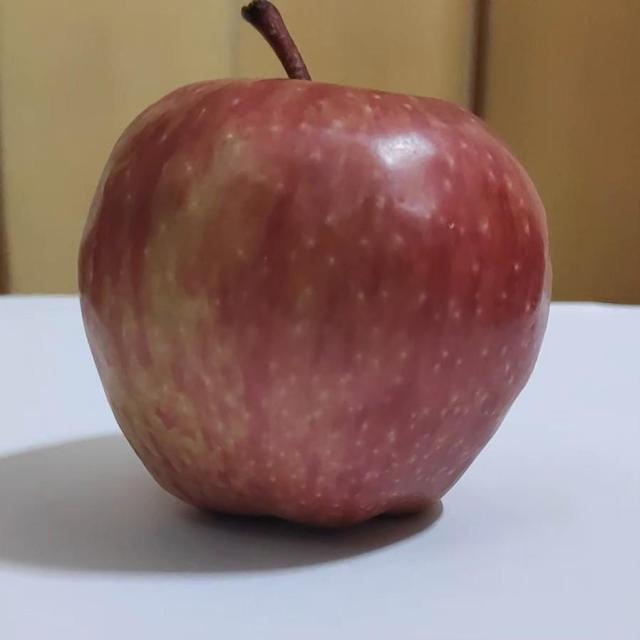Apple: (78, 2, 551, 525)
